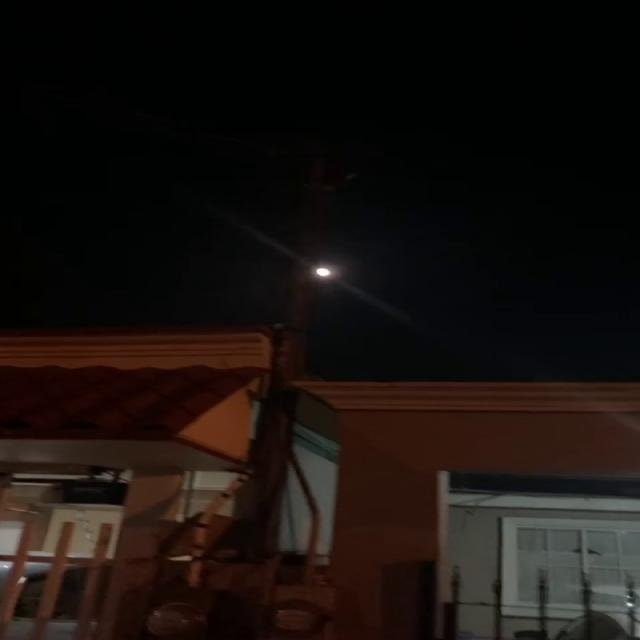moon: (286, 234, 413, 306)
